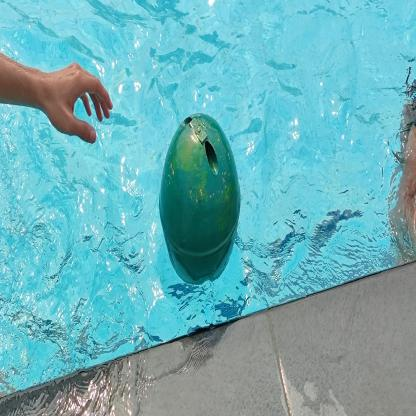green_buoy: (157, 110, 243, 294)
